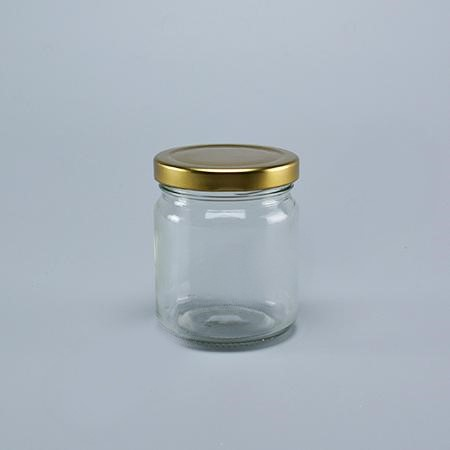glass_bottleww: (137, 126, 324, 369)
